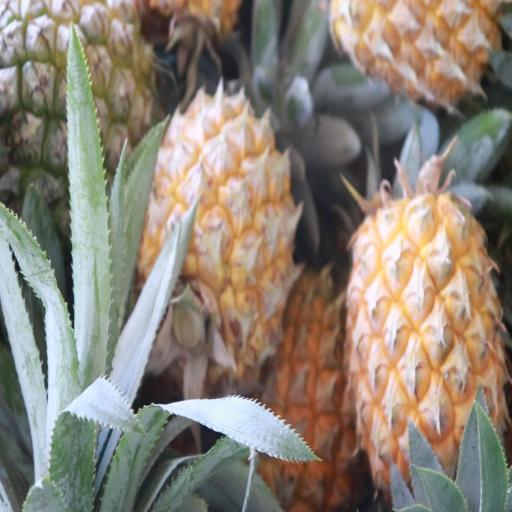Pineapple - v8 v1: (350, 199, 506, 509), (131, 90, 297, 374), (239, 275, 360, 511)
